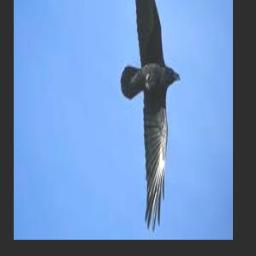Crow: (120, 0, 181, 229)
